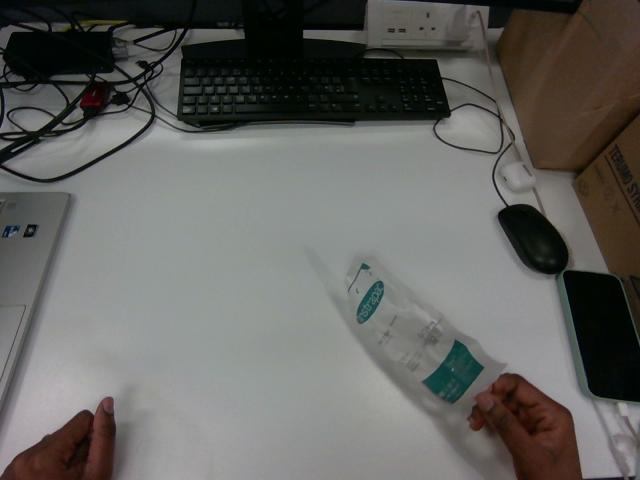gallipot: (347, 258, 504, 407)
